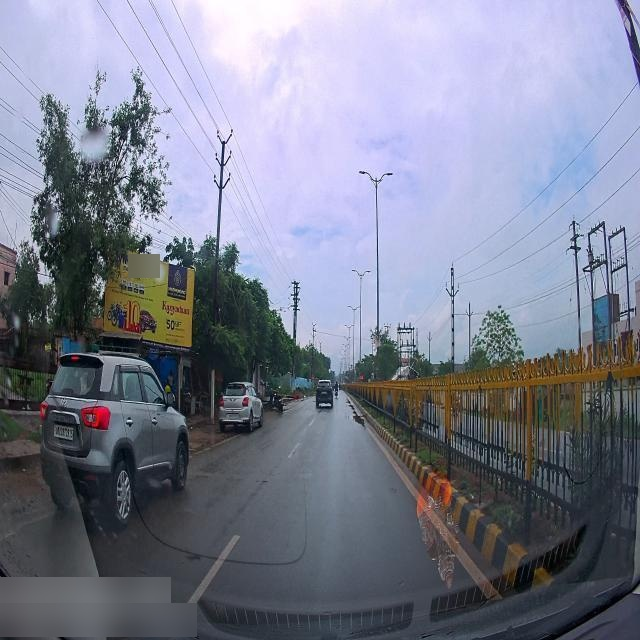pothole: (345, 394, 366, 428)
